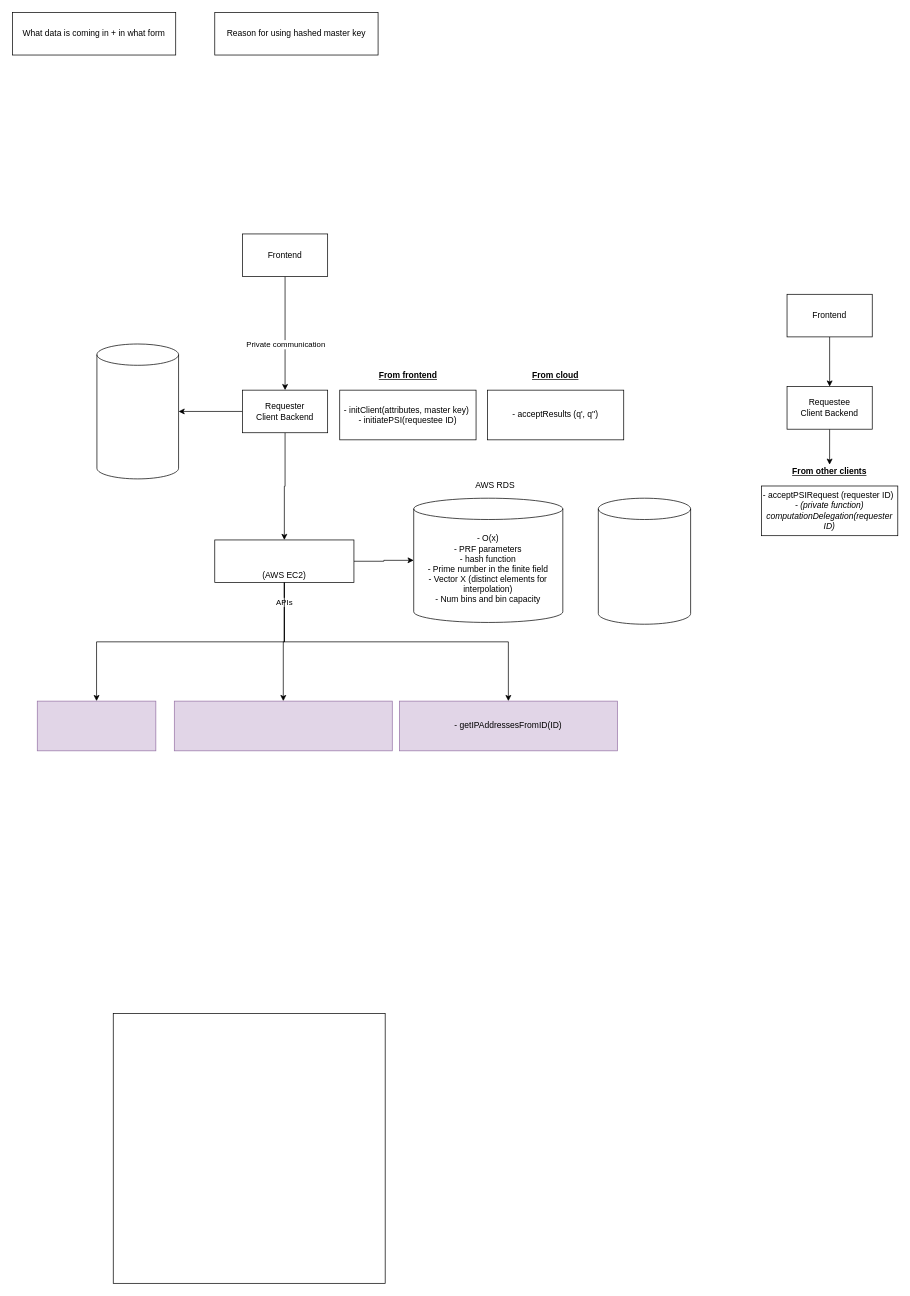
This 910x1296 diagram has some shape labels left out. The box of each missing label's shape, as (x1, y1, x2, y2) in pixels:
- Get cloud parameters - Init client - Update Client vectors: (37, 700, 156, 751)
- ID -> IP addresses mapping: (598, 497, 691, 624)
- resultsComputation: (requestee q, requester ID): (174, 700, 392, 751)
Cloud Backend: (214, 539, 354, 583)
ID Hashed master key Blinded values O(x): (96, 343, 179, 479)
TODOS: - Set up application architechture - Breakdown api functions: (113, 1013, 385, 1283)
